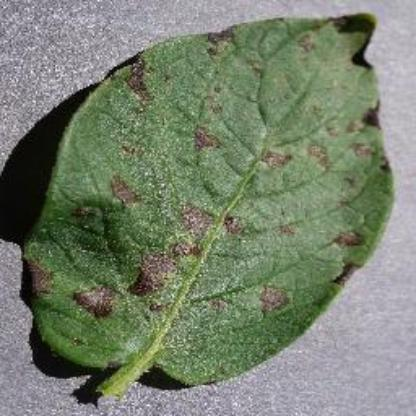Early-Blight: (19, 8, 401, 394)
